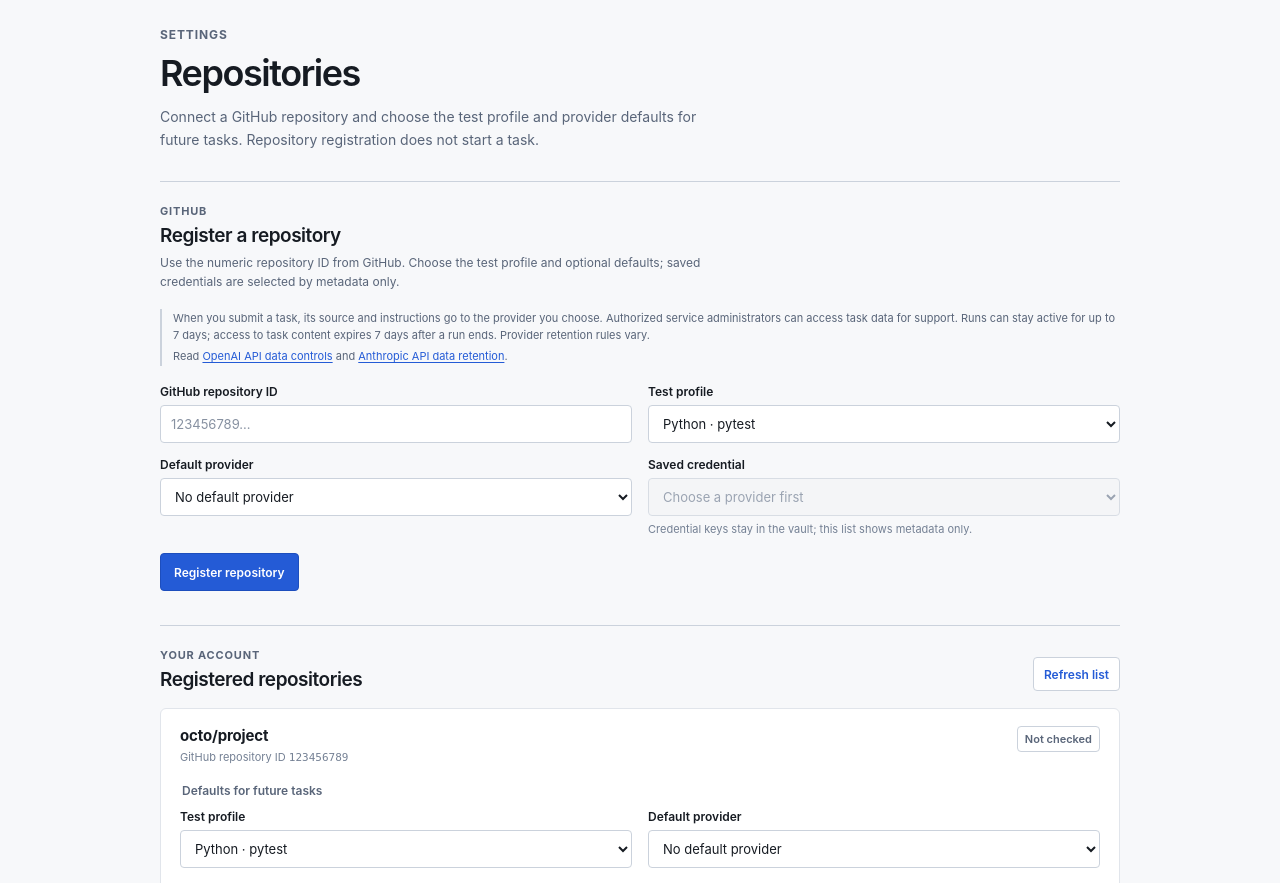
Test case: repository settings › saves future defaults with a credential that matches the selected provider
The image size is (1280, 883).
Step 1. Select "Node.js · npm test" in the dropdown labelled "Test profile" below "123456789" → {"x": 406, "y": 849}, box x1=180 y1=830 x2=632 y2=868
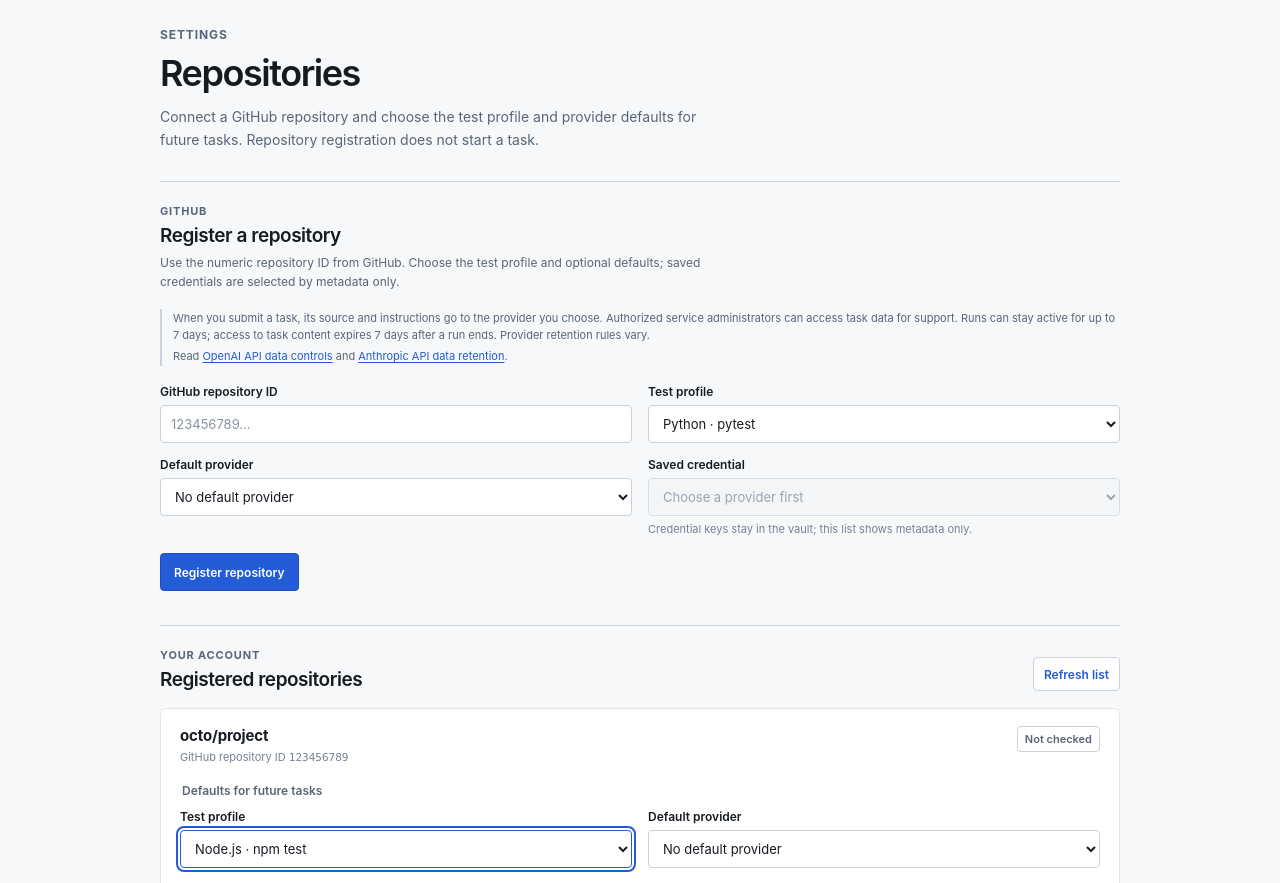
Step 2. Select "Anthropic" in the dropdown labelled "Default provider" below "Not checked" → {"x": 874, "y": 849}, box x1=648 y1=830 x2=1100 y2=868
(page scrolled)
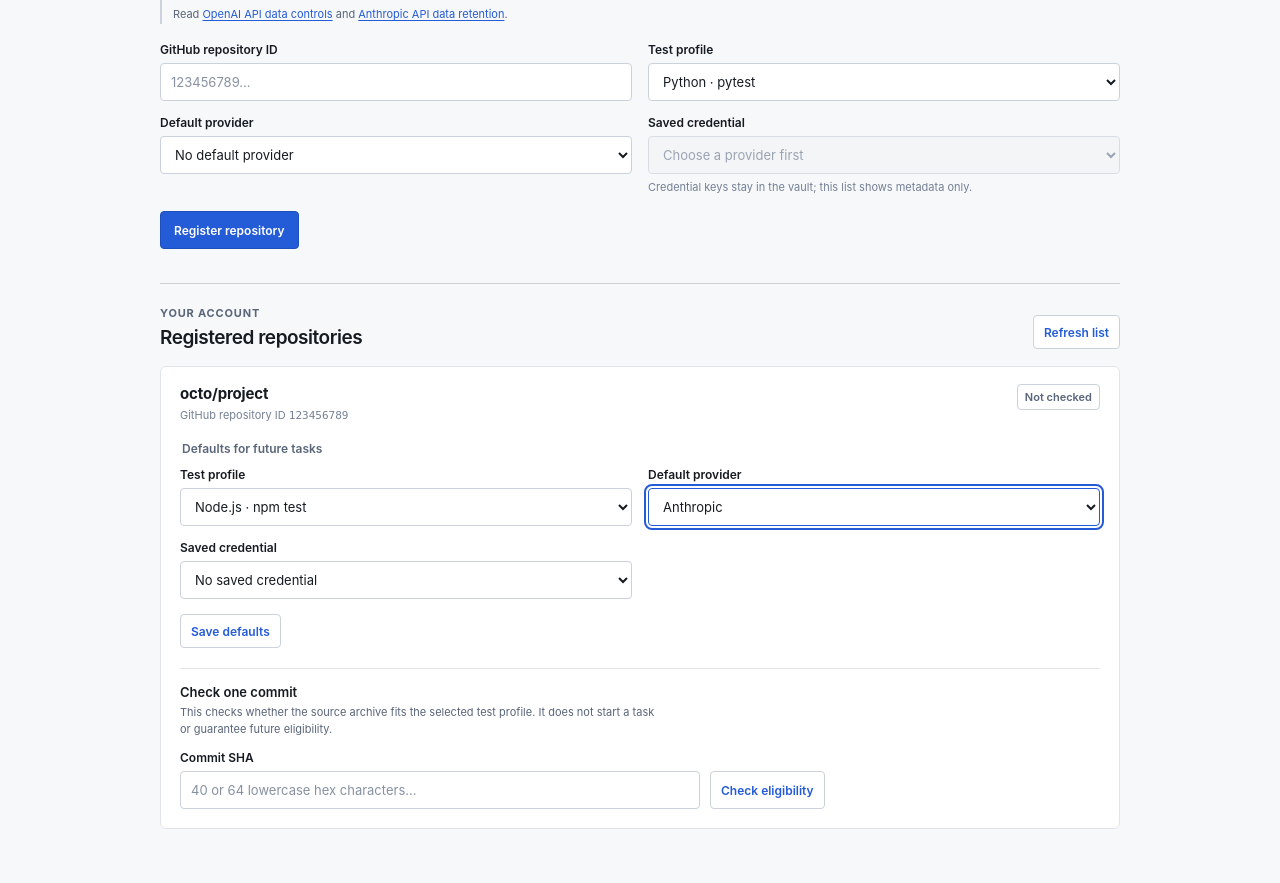
Step 3. Select "anthropi… · added Oct 1, 2026" in the dropdown labelled "Saved credential" below "123456789" → {"x": 406, "y": 580}, box x1=180 y1=561 x2=632 y2=599
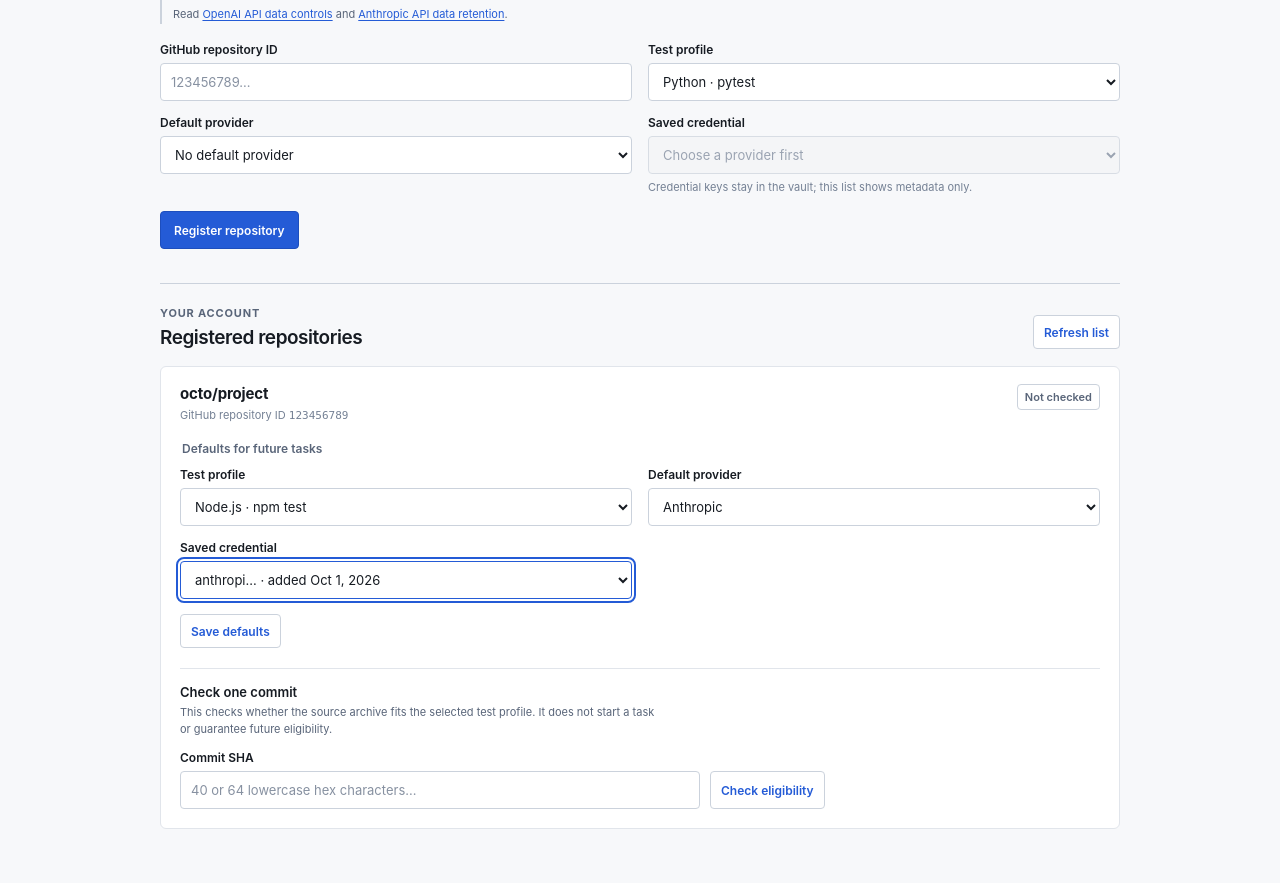
Step 4. Click the button "Save defaults" → {"x": 230, "y": 631}, box x1=180 y1=614 x2=281 y2=648
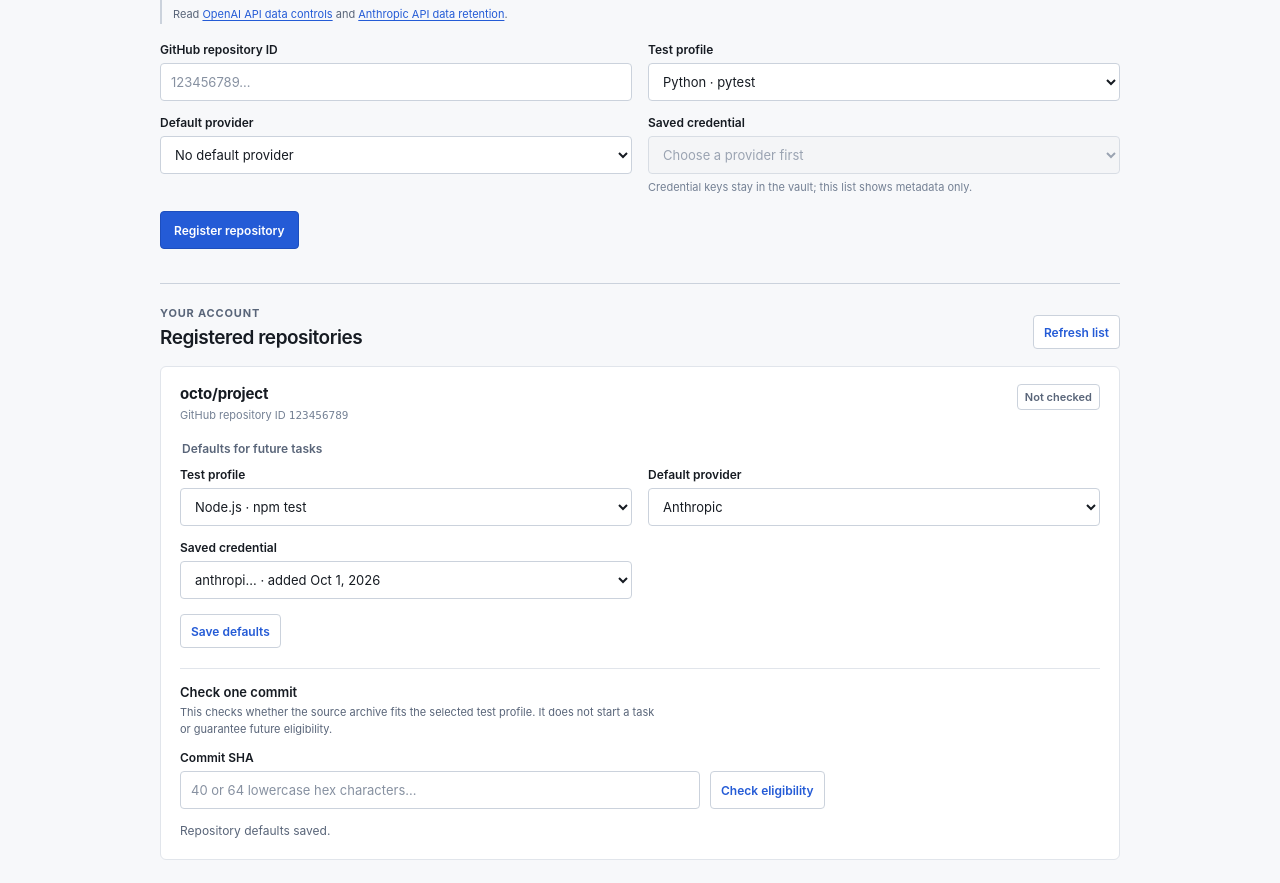
Expected: the text "Repository defaults saved." is shown, x1=180 y1=823 x2=330 y2=838
